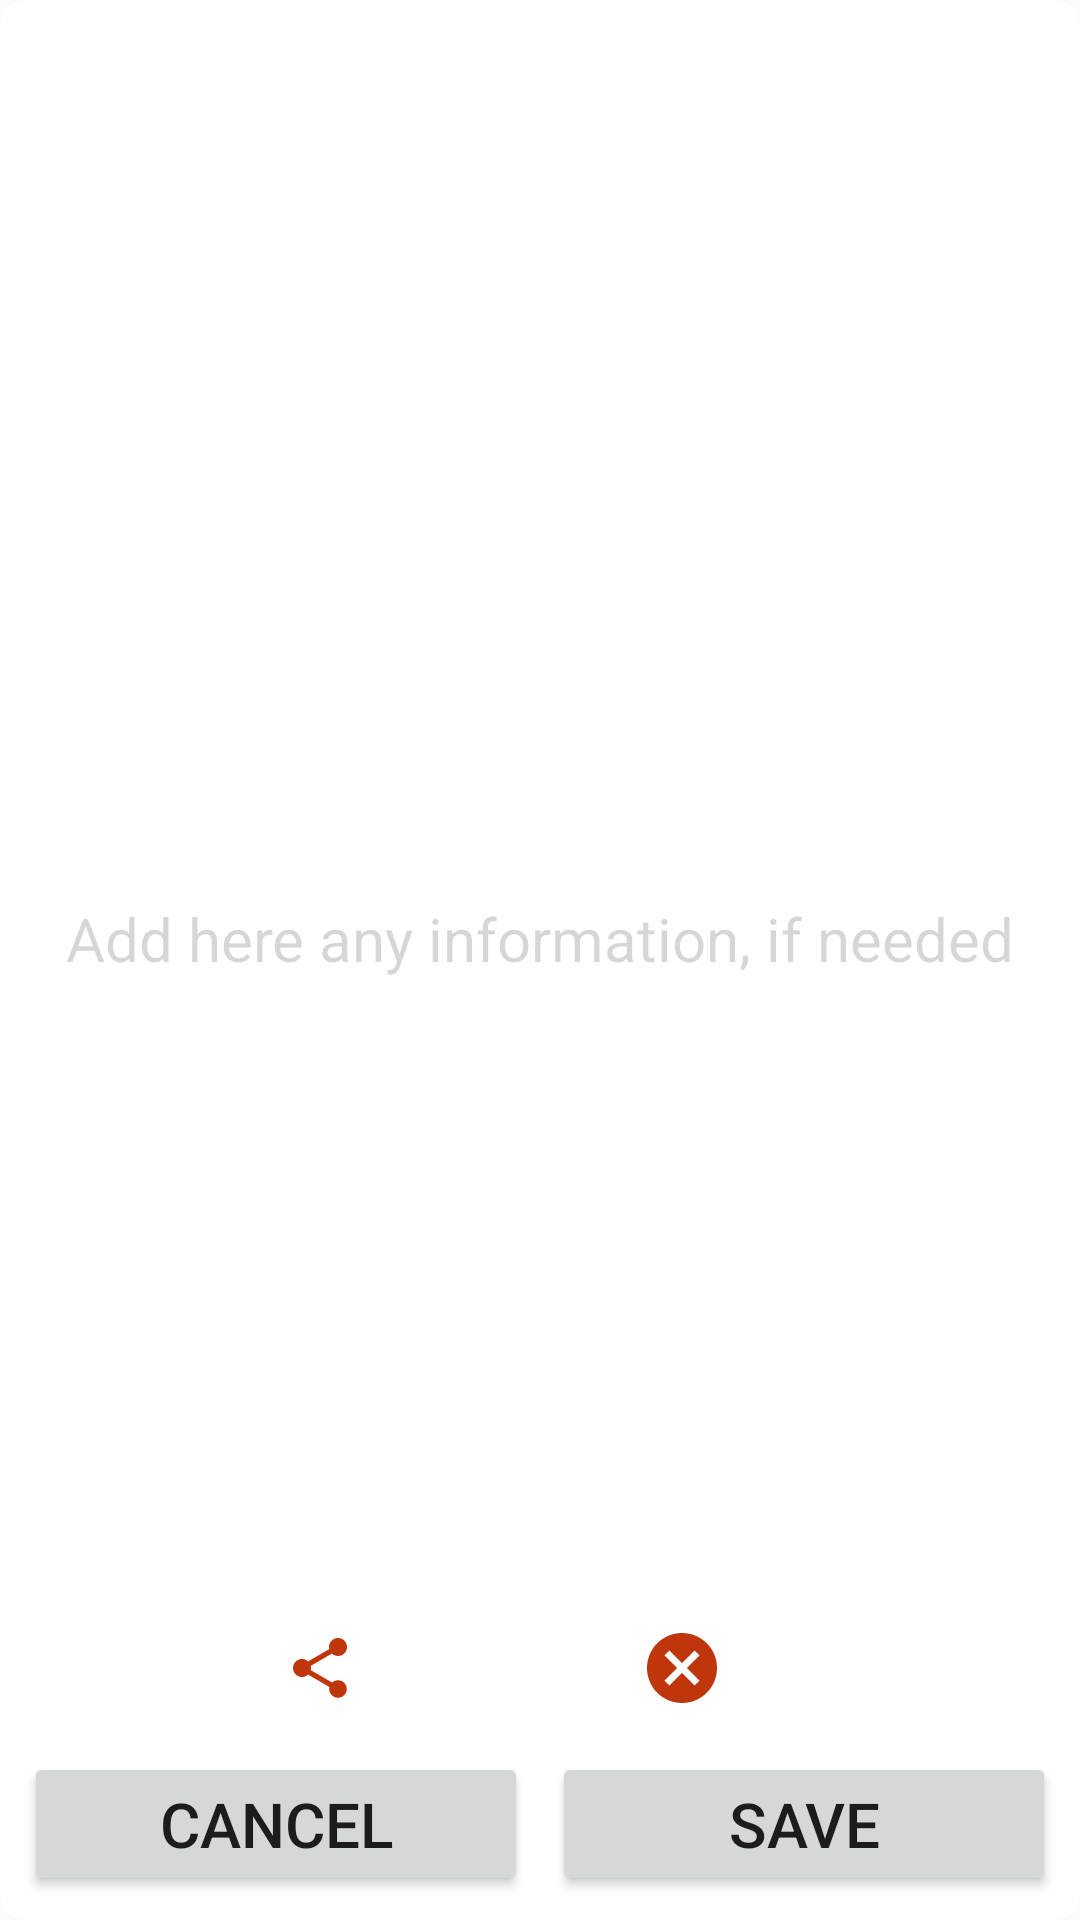

Screen size 1080 x 1920. Icon name, then its box in pixels as (x1, y1, x2, y2):
share: (293, 1638, 347, 1698)
